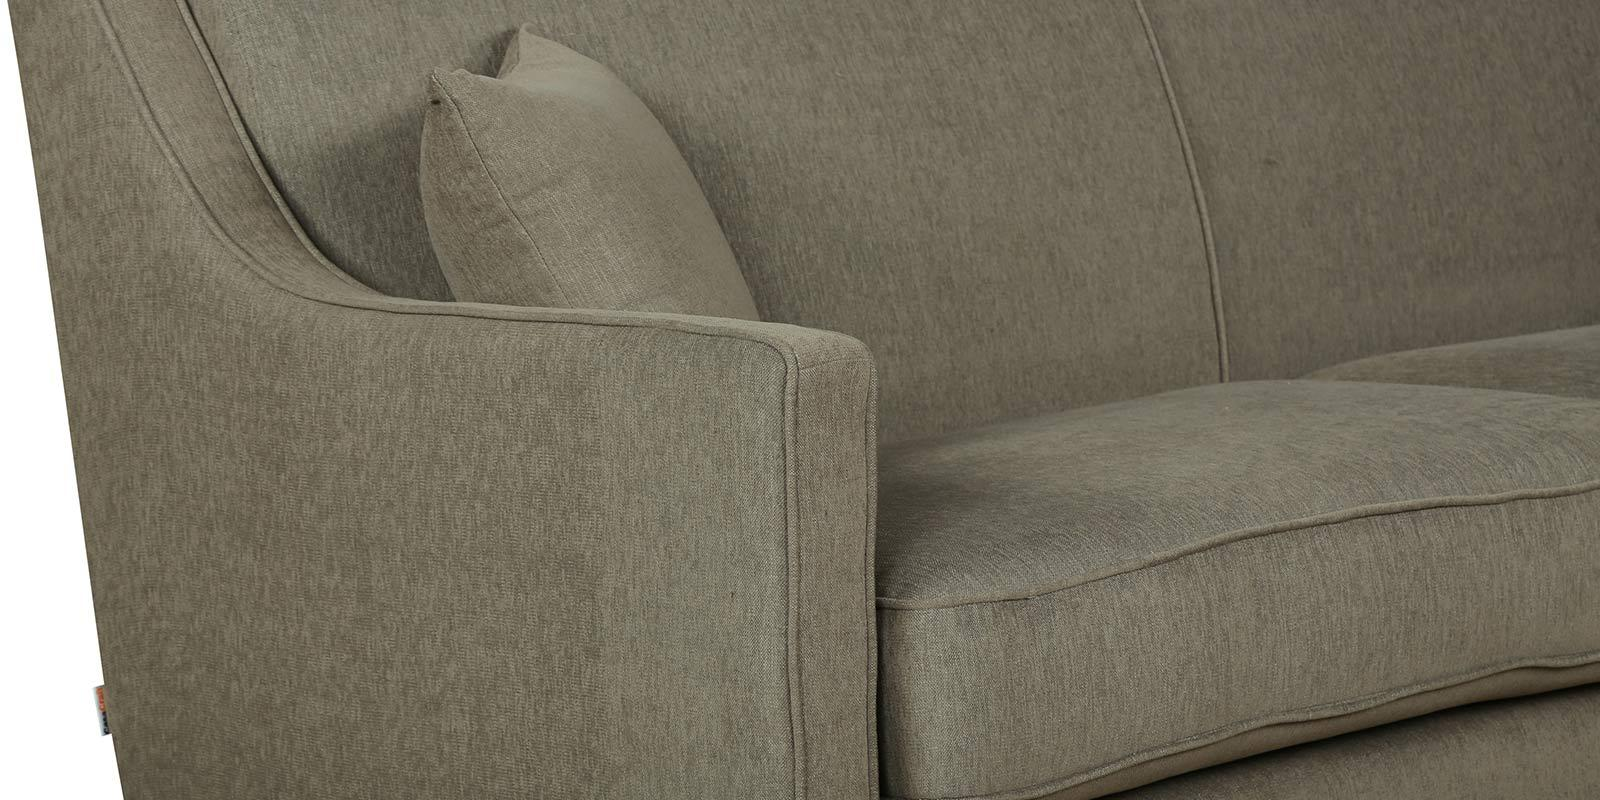Oscar Three Seater Sofa in Sandy Brown Colour by CasaCraft: (10, 3, 1600, 798)
